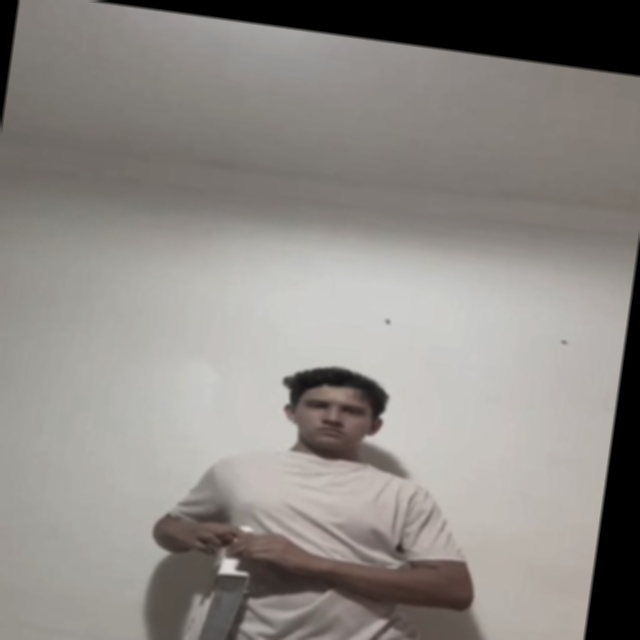Sharp-Object: (182, 571, 248, 640)
